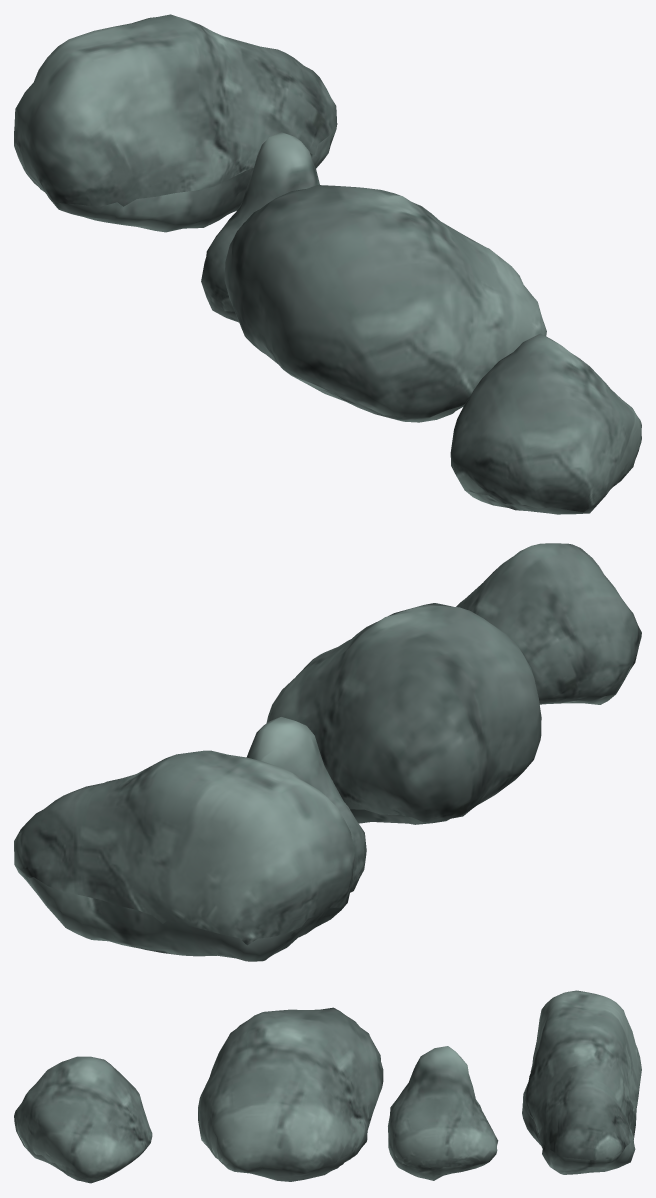
Rendered from Rock.fbx.
3 views of the same model, one above another, from view 1: azimuth 30°, elevation 25°; view 2: azimuth 150°, elevation 25°; view 3: azimuth 270°, elevation 25° (orthographic). The views are drawn at different scales.
Visible parts, largest first — view 1: rock.003, rock, rock.001, rock.002; view 2: rock, rock.003, rock.001, rock.002; view 3: rock.003, rock, rock.001, rock.002.
Part boxes in pixels (bbox=[...]): rock.003: bbox=[224, 185, 546, 422]; rock: bbox=[14, 14, 337, 232]; rock.001: bbox=[450, 333, 641, 514]; rock.002: bbox=[201, 132, 319, 322]; rock: bbox=[14, 750, 355, 961]; rock.003: bbox=[266, 603, 541, 824]; rock.001: bbox=[456, 543, 641, 704]; rock.002: bbox=[246, 717, 366, 892]; rock.003: bbox=[198, 1007, 383, 1181]; rock: bbox=[522, 990, 641, 1174]; rock.001: bbox=[14, 1056, 152, 1183]; rock.002: bbox=[388, 1046, 498, 1180].
Size of the model in its own units: 171 by 115 by 439.
